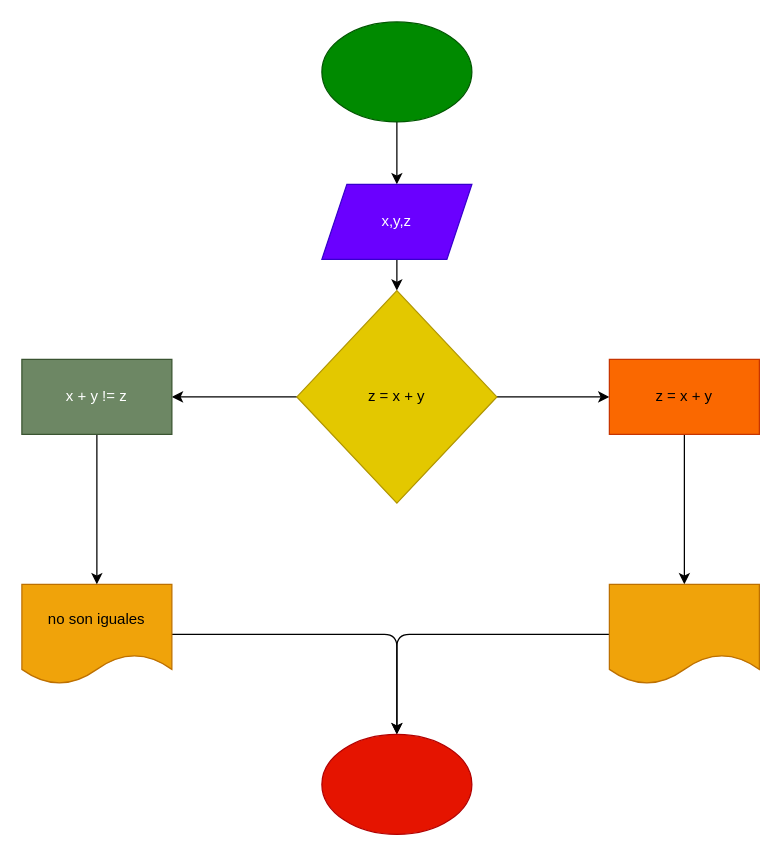
Image size: 781x856. Some labels were removed from this diagram. Here are the shapes that lost their labels. From the top down, the box of each, then its label:
(321, 21, 472, 122): inicio
(608, 583, 759, 684): x + y es igual a z
(321, 733, 472, 834): fin
